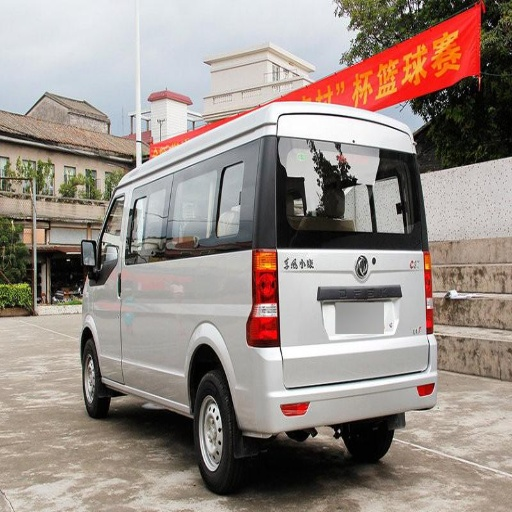back_bumper: (238, 347, 436, 437)
back_left_light: (246, 248, 278, 346)
trunk: (270, 250, 424, 386), (137, 254, 256, 393)
